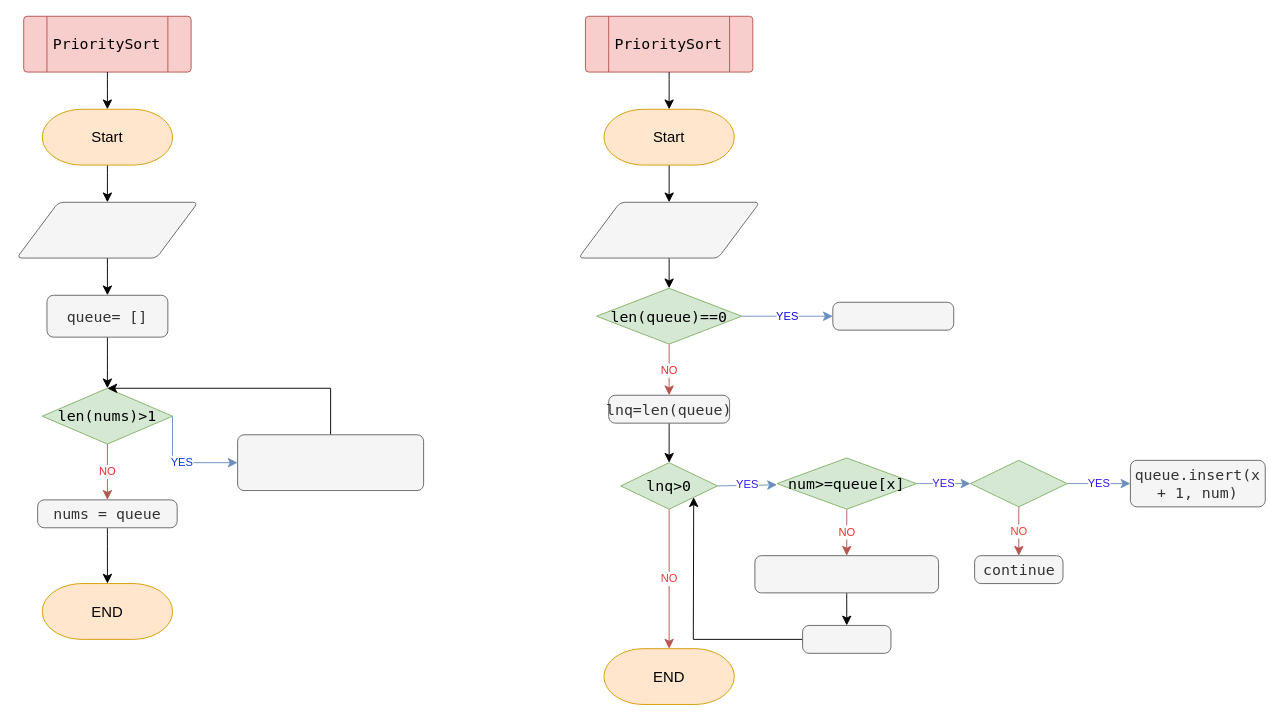
This 1282x721 diagram has some shape labels left out. The centre of each missing label's shape, as x and y in pixels:
"Input nums" goes at point (107, 229).
"Input queue, num" goes at point (669, 229).
"lnq=lnq-1" goes at point (846, 638).
"q_insert(queue, nums.pop())" goes at point (330, 462).
"queue.insert(x, num)" goes at point (846, 574).
"queue[0]=num" goes at point (893, 315).
"x==lnq-1" goes at point (1018, 483).
